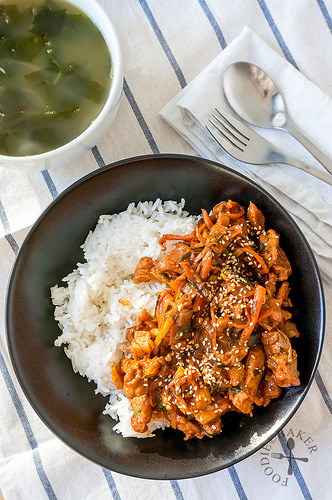bulgogi: (116, 199, 308, 444)
